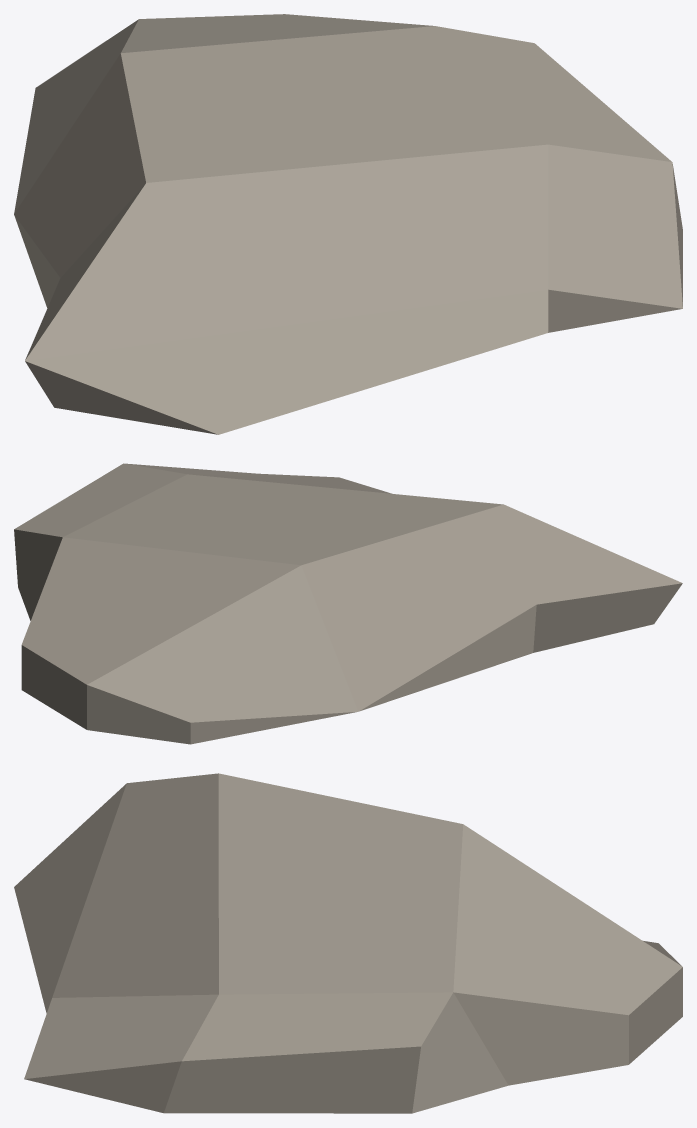
The model's file is SM_pebble_03.fbx.
3 renders of one model, top to bottom at view 1: azimuth 30°, elevation 25°; view 2: azimuth 150°, elevation 25°; view 3: azimuth 270°, elevation 25°, orthographic. The views are drawn at different scales.
Visible parts, largest first — view 1: pebble_03; view 2: pebble_03; view 3: pebble_03.
Boxes of the visible parts, bbox=[...] form: pebble_03: bbox=[14, 14, 682, 434]; pebble_03: bbox=[14, 463, 682, 744]; pebble_03: bbox=[14, 773, 682, 1113].
Size of the model in its own units: 97.05 by 20.99 by 95.66.
